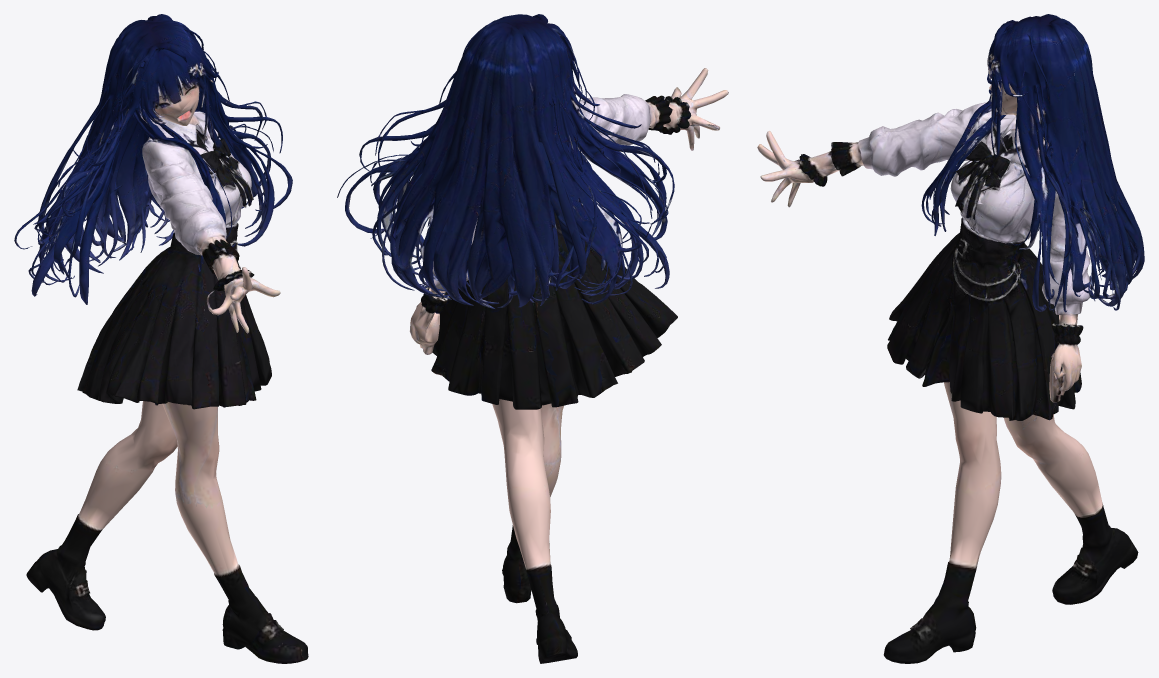
File: hinata_chan.glb
3 renders of one model, left to right at view 1: azimuth 30°, elevation 25°; view 2: azimuth 150°, elevation 25°; view 3: azimuth 270°, elevation 25°, orthographic. The views are drawn at different scales.
Bounding box in the file's own units: 0.9338 × 1.9 × 1.1.
Materials: 1 (1 with a texture image).
